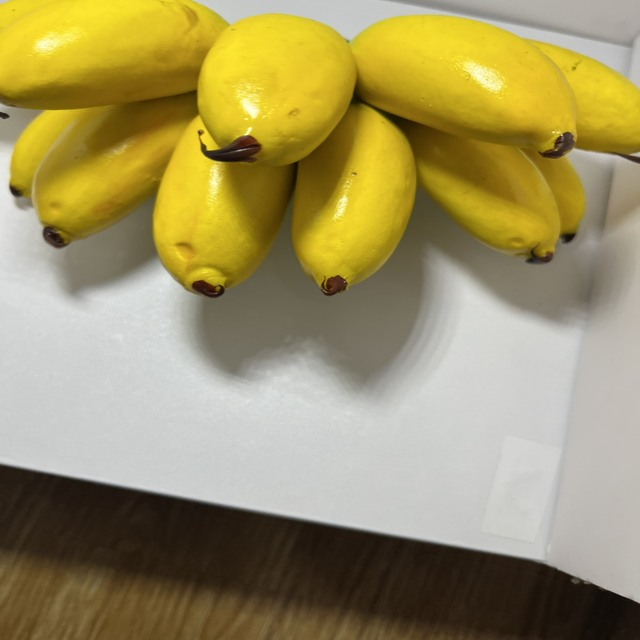Chuoi: (0, 0, 640, 307)
